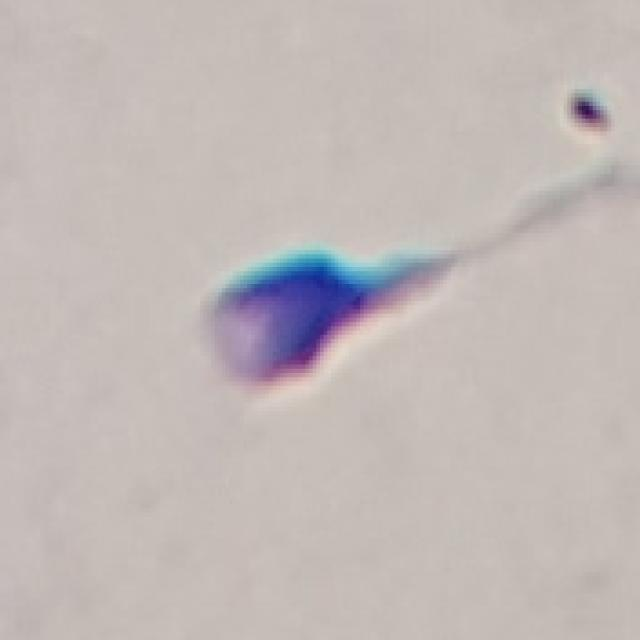abnormal sperm: (204, 224, 517, 391)
